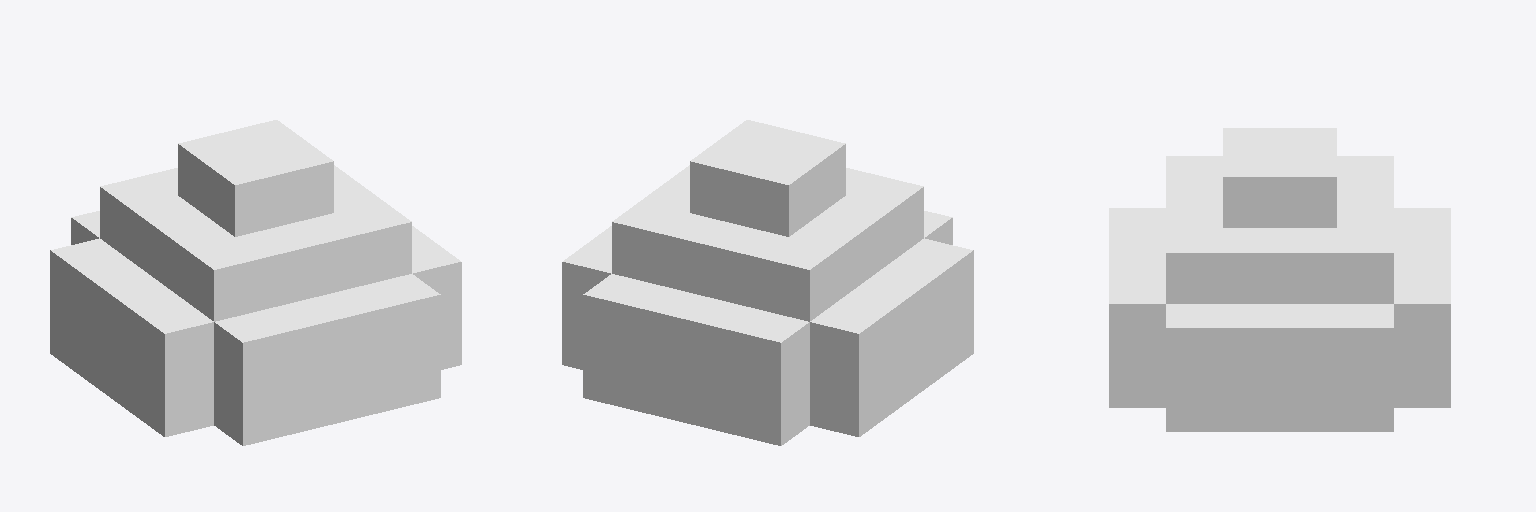
File: char-222-helm_lgt_2b_ja_color.obj
3 renders of one model, left to right at view 1: azimuth 30°, elevation 25°; view 2: azimuth 150°, elevation 25°; view 3: azimuth 270°, elevation 25°, orthographic.
Visible parts, largest first — view 1: helm_lgt_2b_ja_color; view 2: helm_lgt_2b_ja_color; view 3: helm_lgt_2b_ja_color.
Boxes of the visible parts, box(x1,y1,x2,y2) form: helm_lgt_2b_ja_color: box(50, 120, 461, 445); helm_lgt_2b_ja_color: box(562, 120, 973, 445); helm_lgt_2b_ja_color: box(1109, 128, 1450, 431).
Size of the model in its own units: 0.6 by 0.4 by 0.6.